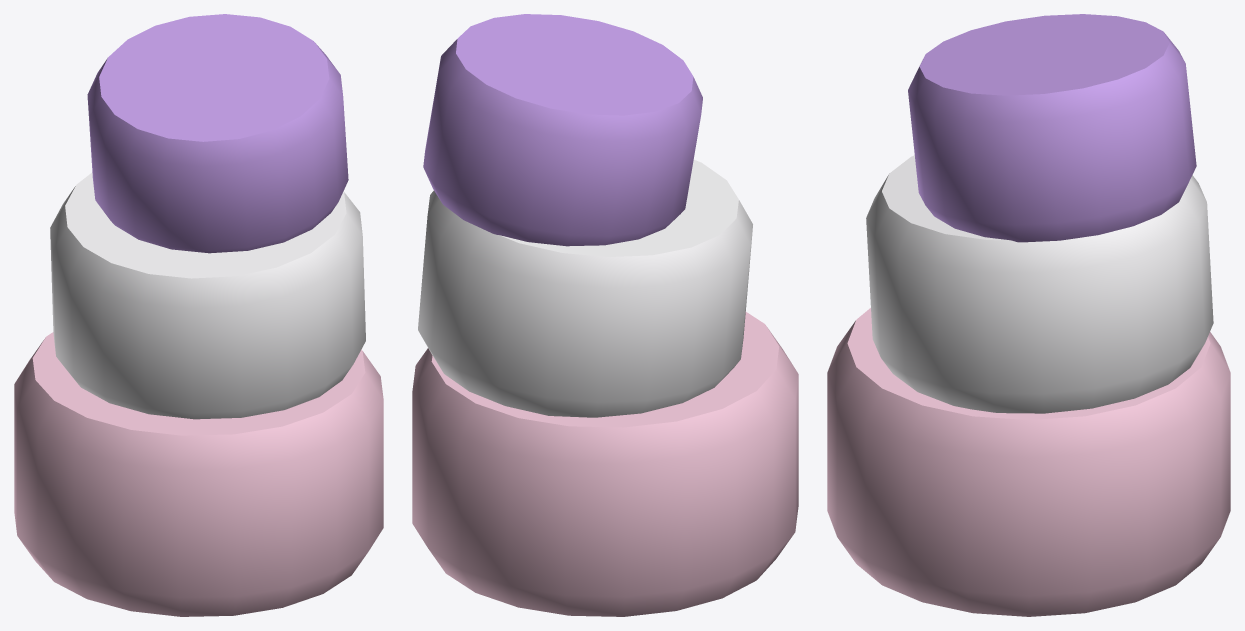
File: Marshmallow_Stack.fbx
3 renders of one model, left to right at view 1: azimuth 30°, elevation 25°; view 2: azimuth 150°, elevation 25°; view 3: azimuth 270°, elevation 25°, orthographic. The views are drawn at different scales.
Parts seen in each view (by area): view 1: Marshmallow_Stack; view 2: Marshmallow_Stack; view 3: Marshmallow_Stack.
Boxes of the visible parts, x1,y1,x2,y2 form: Marshmallow_Stack: [14, 14, 383, 616]; Marshmallow_Stack: [412, 14, 798, 616]; Marshmallow_Stack: [827, 14, 1230, 616].
Size of the model in its own units: 2.6 by 3.66 by 2.6.
